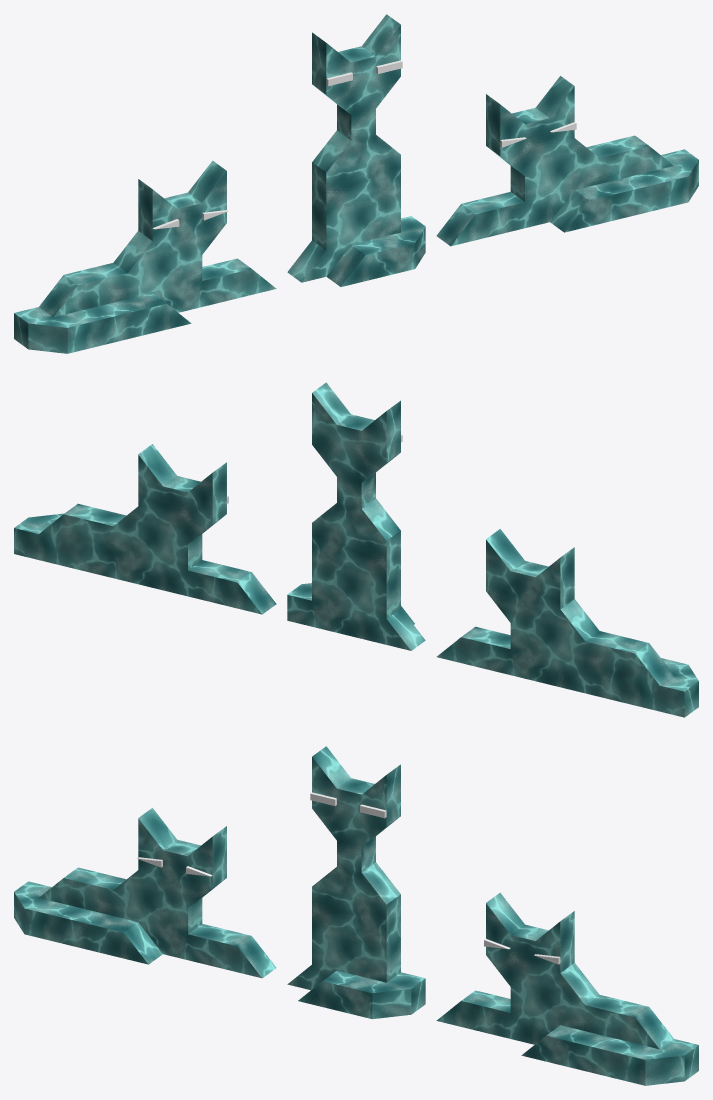
Rendered from golden_cats.fbx.
The picture shows the model from 3 angles, top to bottom: view 1: azimuth 30°, elevation 25°; view 2: azimuth 150°, elevation 25°; view 3: azimuth 330°, elevation 25°; orthographic projection.
Parts seen in each view (by area): view 1: 484, 666; view 2: 484; view 3: 484, 666.
Boxes of the visible parts, x1,y1,x2,y2 form: 484: (14,14,698,353); 666: (153,60,576,229); 484: (14,382,698,717); 484: (14,746,698,1085); 666: (136,792,560,964).
Bounding box in the file's own units: 27 × 9 × 2.
